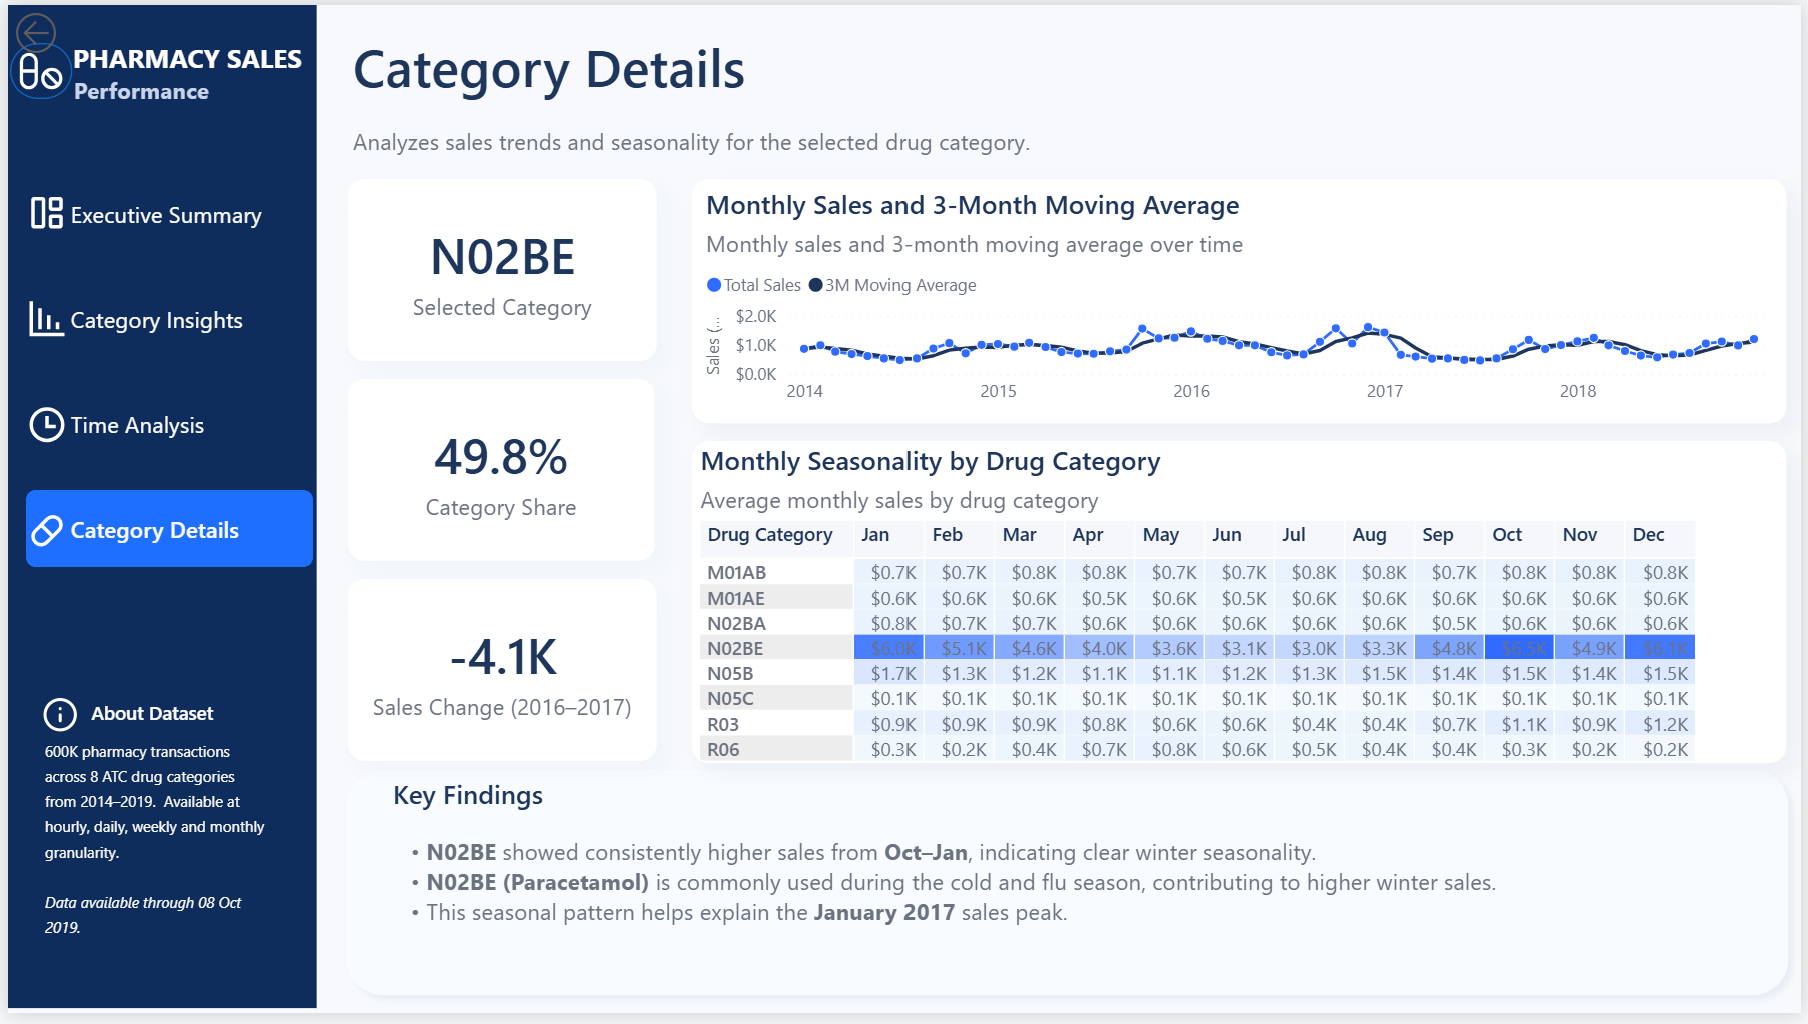

This screenshot's page, from the dashboard's own definition file:
{"tool":"powerbi","page":{"name":"Category Details","canvas":[1280,720],"ordinal":3},"visuals":[{"type":"shape","box":[0,0,220.5,716.6],"z":0},{"type":"textbox","box":[241.9,12.2,762.5,134.7],"z":1000},{"type":"group","id":"g1","title":"Group 1","box":[232.7,537.1,1047.3,180.7],"z":2000},{"type":"shape","box":[232.7,537.1,1047.3,179.1],"z":2500,"group":"g1"},{"type":"actionButton","box":[0,0,100,40],"z":3000},{"type":"textbox","box":[269.8,546.3,1010.1,171.5],"z":3000,"group":"g1"},{"type":"textbox","box":[15.3,19.9,228.1,72],"z":4000},{"type":"pageNavigator","box":[12.2,121,205.2,280.2],"z":5000},{"type":"image","box":[12.2,284.3,30,30.6],"z":6000},{"type":"image","box":[12.2,208.7,30,30.6],"z":7000},{"type":"image","box":[12.2,359.8,30,30.6],"z":8000},{"type":"image","box":[12.2,133.2,30,30.6],"z":9000},{"type":"image","box":[1.5,27.6,44.4,39.8],"z":10000},{"type":"textbox","box":[21.4,491.5,188.3,33.7],"z":11000},{"type":"image","box":[24.5,491.5,26,30.6],"z":12000},{"type":"textbox","box":[21.4,480.8,170,197.5],"z":13000},{"type":"card","fields":{"Values":["_Measures.Selected Category"]},"box":[243.4,124,220.5,130],"z":13001},{"type":"card","fields":{"Values":["_Measures.Category Share"]},"box":[243.4,267.2,218.9,130],"z":13002},{"type":"card","fields":{"Values":["_Measures.Category YoY Change (2016-2017)"]},"box":[243.4,410.3,220.5,130.1],"z":13003},{"type":"lineChart","title":"Monthly Sales and 3-Month Moving Average","fields":{"Category":["Date Table.Date.Variation.Date Hierarchy.Year","Date Table.Date.Variation.Date Hierarchy.Quarter","Date Table.Date.Variation.Date Hierarchy.Month"],"Y":["_Measures.Total Sales","_Measures.3M Moving Average"]},"box":[488.4,124,780.9,174.5],"z":13004},{"type":"pivotTable","title":"Monthly Seasonality by Drug Category","fields":{"Columns":["Date Table.Month Name"],"Values":["Category Reference.Seasonal Sales (Unfiltered)"],"Rows":["Category Reference.Drug Category"]},"box":[488.4,310.8,780.9,230],"z":13005},{"type":"actionButton","box":[0,0,100,40],"z":13006}]}

Visuals, with their boxes in screenshot pixels (x1, y1, x2, y2), scaled from the page's 1280x720 canvas onto the 1808x1024 screenshot:
shape: <box>0,0,311,1019</box>
textbox: <box>342,17,1419,209</box>
"Group 1" group: <box>329,764,1807,1021</box>
shape: <box>329,764,1807,1019</box>
actionButton: <box>0,0,141,57</box>
textbox: <box>381,777,1807,1021</box>
textbox: <box>22,28,344,131</box>
pageNavigator: <box>17,172,307,571</box>
image: <box>17,404,60,448</box>
image: <box>17,297,60,340</box>
image: <box>17,512,60,555</box>
image: <box>17,189,60,233</box>
image: <box>2,39,65,96</box>
textbox: <box>30,699,296,747</box>
image: <box>35,699,71,743</box>
textbox: <box>30,684,270,965</box>
card - _Measures.Selected Category: <box>344,176,655,361</box>
card - _Measures.Category Share: <box>344,380,653,565</box>
card - _Measures.Category YoY Change (2016-2017): <box>344,584,655,769</box>
"Monthly Sales and 3-Month Moving Average" lineChart: <box>690,176,1793,425</box>
"Monthly Seasonality by Drug Category" pivotTable: <box>690,442,1793,769</box>
actionButton: <box>0,0,141,57</box>
